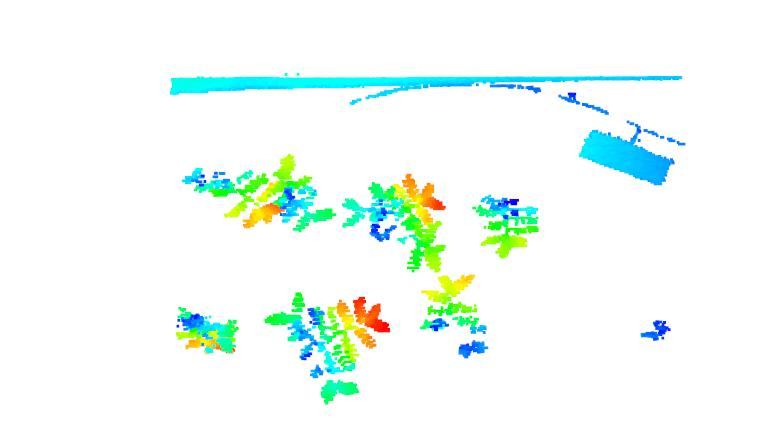chickpea: (271, 289, 388, 402), (341, 168, 452, 276), (417, 269, 492, 363), (179, 163, 282, 229), (265, 150, 335, 231), (464, 189, 543, 260), (171, 299, 243, 361)
